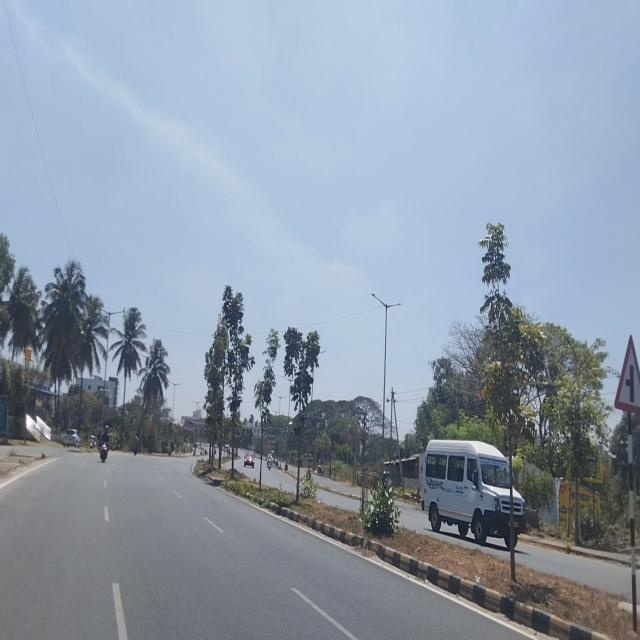bien_nguy_hiem: (610, 331, 640, 424)
